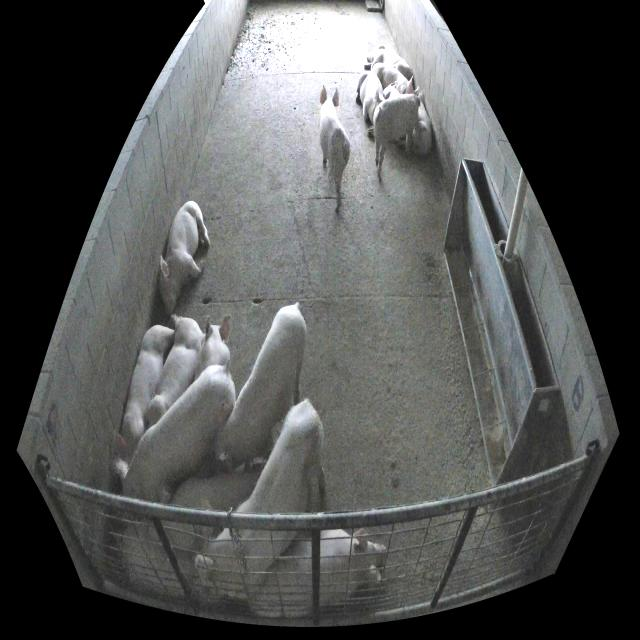pig: (195, 399, 325, 604), (123, 361, 236, 502), (215, 302, 307, 469), (251, 528, 386, 618), (148, 457, 267, 548), (114, 325, 174, 486), (145, 314, 202, 433), (116, 527, 198, 596), (160, 201, 210, 313), (318, 85, 350, 212), (373, 94, 420, 170), (194, 317, 231, 379), (364, 45, 411, 81), (356, 71, 385, 124), (371, 63, 418, 95), (412, 101, 432, 157), (383, 83, 400, 99)
